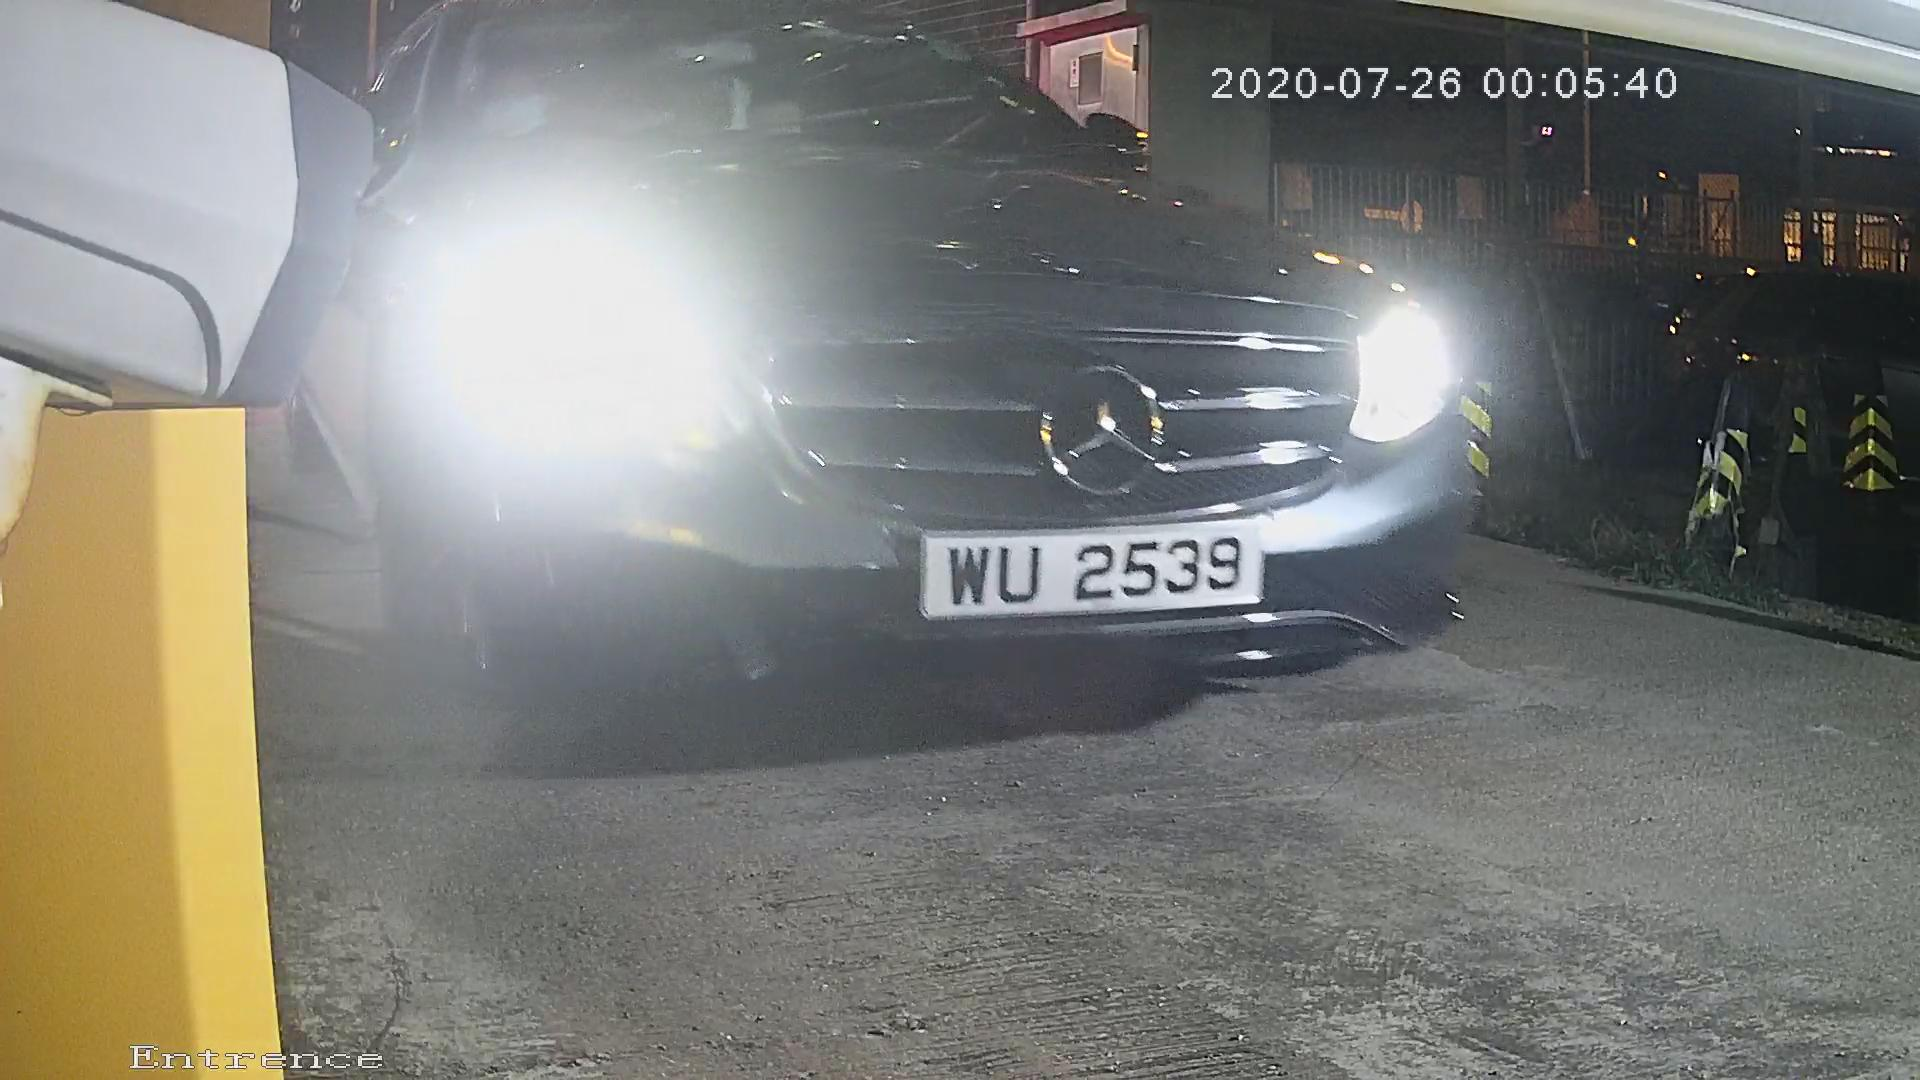Car: (112, 1, 1578, 767)
License Plate: (885, 492, 1298, 631)
